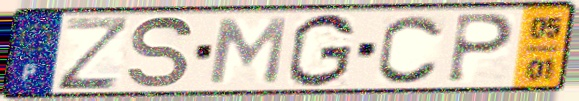C: (374, 12, 447, 86)
G: (285, 11, 359, 89)
M: (204, 16, 291, 87)
P: (444, 12, 518, 86)
S: (125, 14, 197, 91)
Z: (53, 14, 134, 93)
